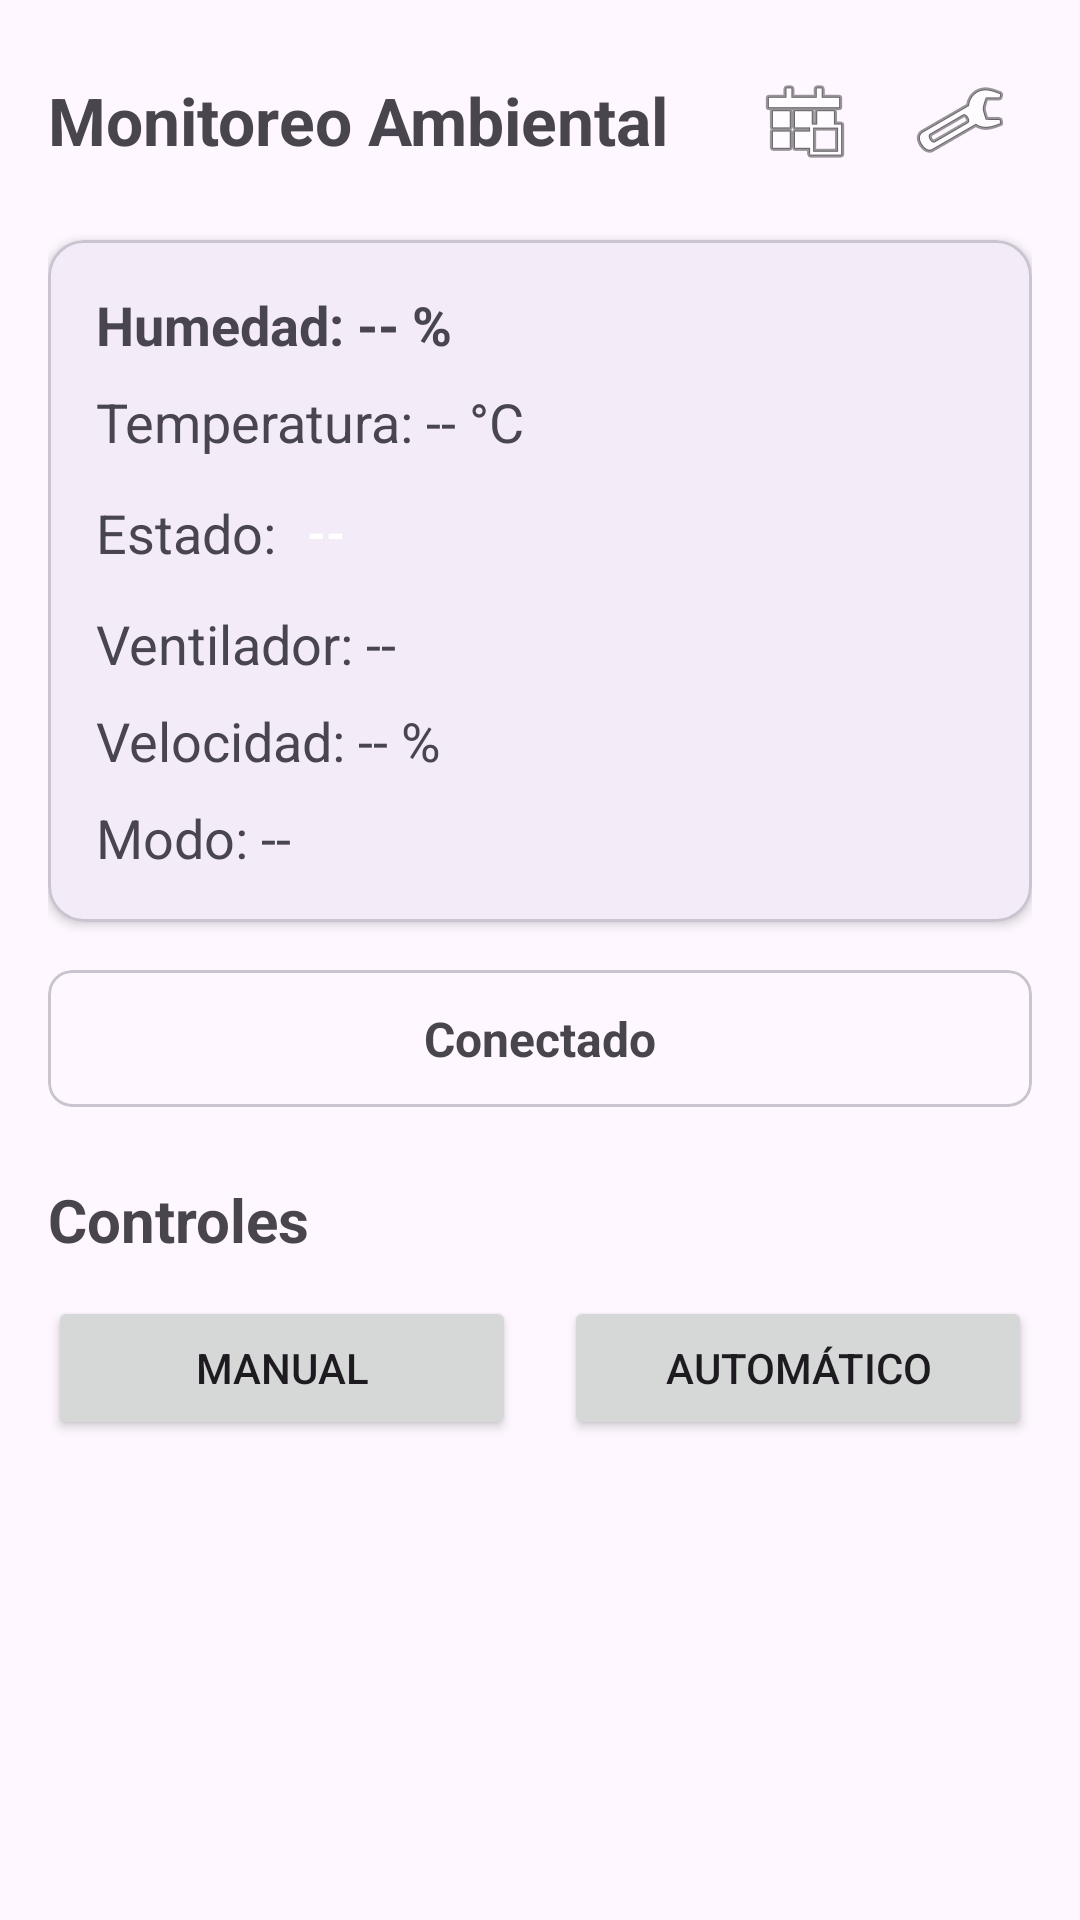

Icons on this 1080px x 1920px Android screen, each with its box as {"left": x1, "top": y1, "right": x2, "bottom": y2}:
Configuración: {"left": 917, "top": 87, "right": 1003, "bottom": 153}
